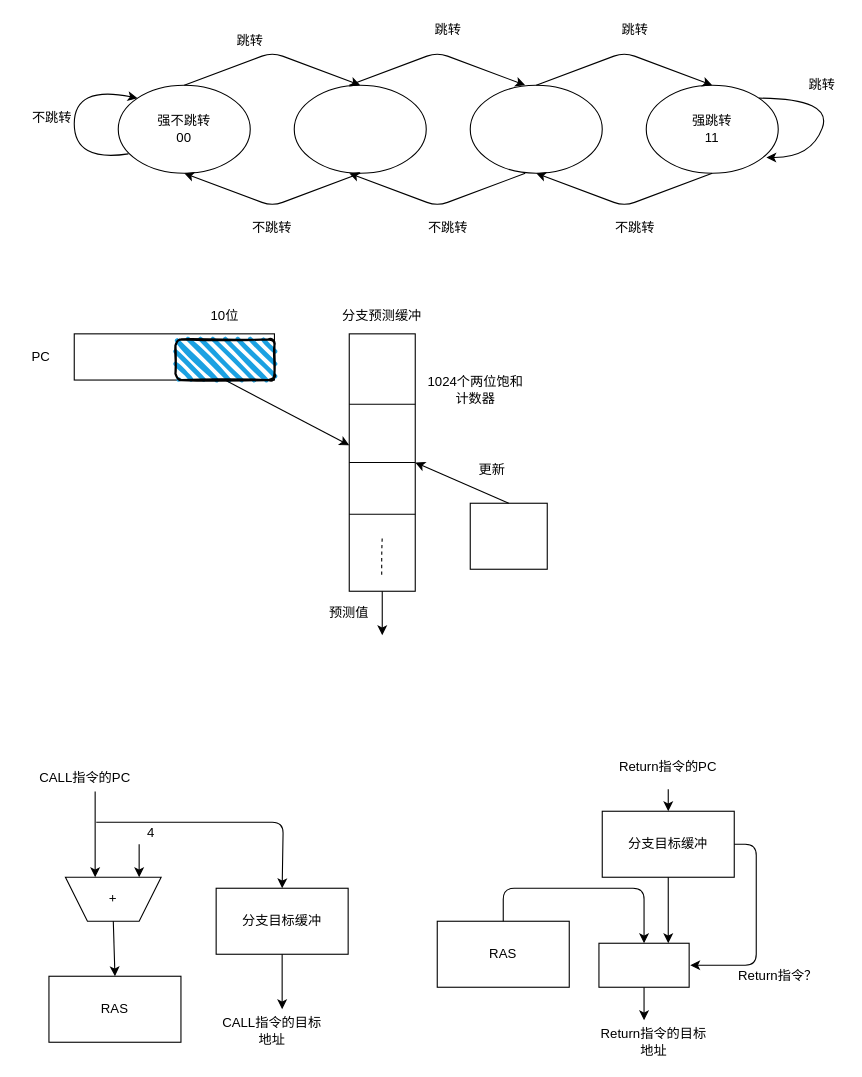
The diagram is 862 pixels wide and 1077 high, and some of its shapes have lost their labels. The shapes that lost their labels are listed below. From the top down, each one's centre as x and y in pixels, then its label:
At (x=359, y=128): "弱不跳转 01".
At (x=535, y=128): "弱跳转 10".
At (x=508, y=535): "实际结果".
At (x=643, y=964): "选择器".
